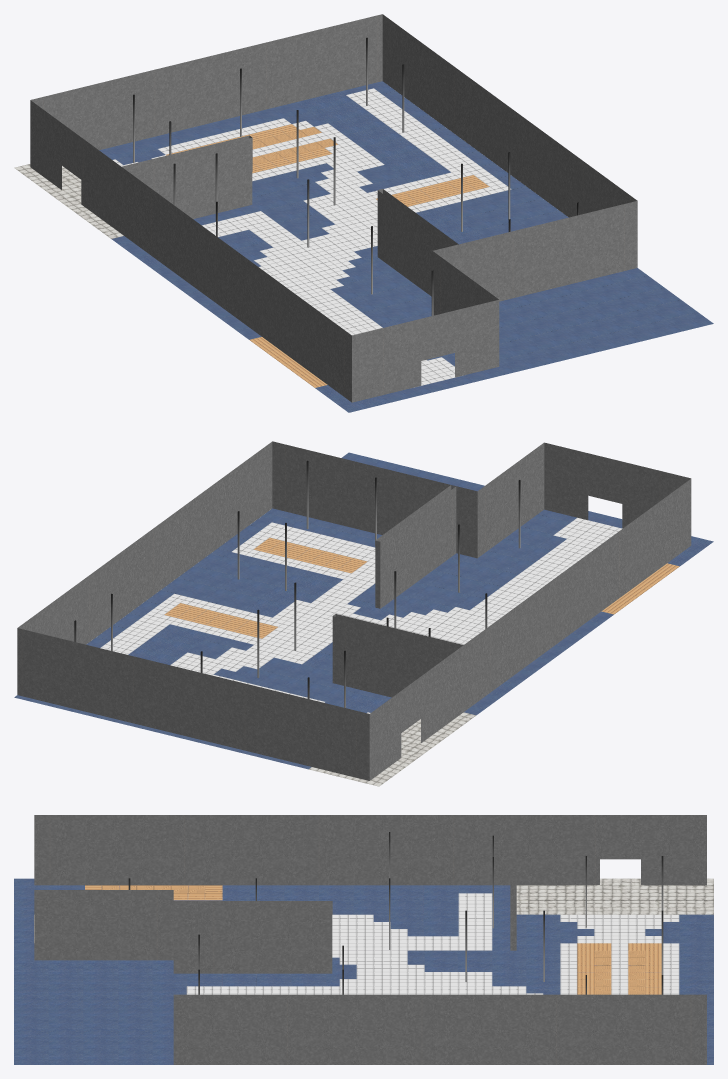
Rendered from Level_1_Floor 1.fbx.
3 views of the same model, one above another, from view 1: azimuth 30°, elevation 25°; view 2: azimuth 150°, elevation 25°; view 3: azimuth 270°, elevation 25° (orthographic). The views are drawn at different scales.
Parts seen in each view (by area): view 1: Level_1_Floor3; view 2: Level_1_Floor3; view 3: Level_1_Floor3.
Boxes of the visible parts, bbox=[...] form: Level_1_Floor3: bbox=[14, 14, 713, 412]; Level_1_Floor3: bbox=[14, 441, 713, 786]; Level_1_Floor3: bbox=[14, 815, 713, 1064].
Size of the model in its own units: 5210 by 934 by 8272.
